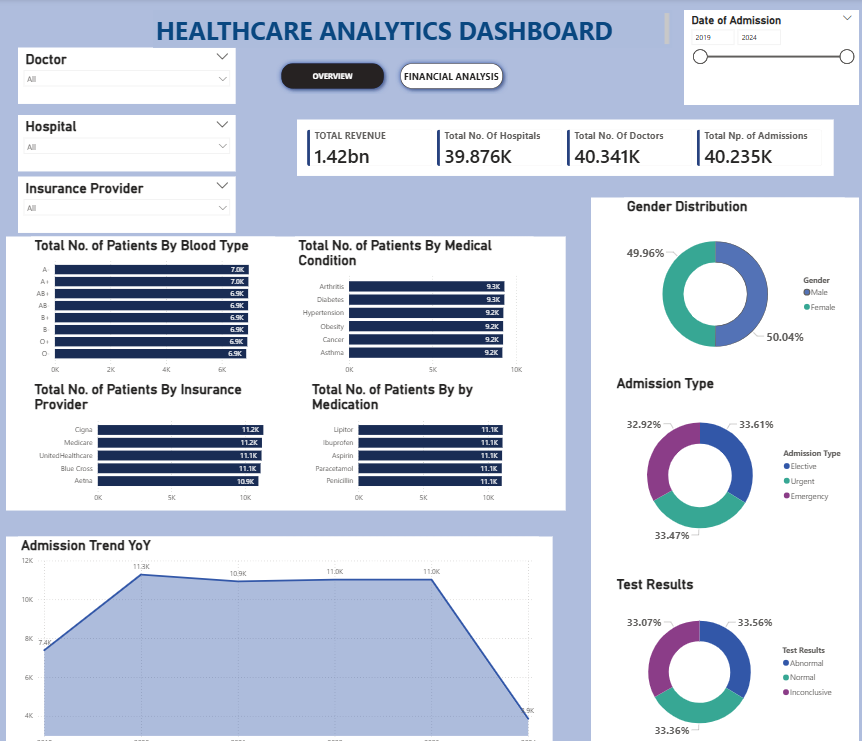

This screenshot's page, from the dashboard's own definition file:
{"tool":"powerbi","page":{"name":"OVERVIEW","canvas":[1500,1300],"ordinal":0},"visuals":[{"type":"shape","box":[15,412.5,965,472.5],"z":0},{"type":"shape","box":[1025,345,462.5,955],"z":1000},{"type":"shape","box":[15,927.5,942.5,372.5],"z":2000},{"type":"cardVisual","fields":{"Data":["Sum(healthcare_dataset.Billing Amount)","Count(healthcare_dataset.Hospital)","Count(healthcare_dataset.Doctor)","Count(healthcare_dataset.Name)"]},"box":[517.5,210,925,97.5],"z":3000},{"type":"barChart","title":"Total No. of Patients By Blood Type","fields":{"Category":["healthcare_dataset.Blood Type"],"Y":["CountNonNull(healthcare_dataset.Name)"]},"box":[60,412.5,420,247.5],"z":4000},{"type":"barChart","title":"Total No. of Patients By Medical Condition","fields":{"Y":["CountNonNull(healthcare_dataset.Name)"],"Category":["healthcare_dataset.Medical Condition"]},"box":[515,412.5,410,247.5],"z":5000},{"type":"barChart","title":"Total No. of Patients By Insurance Provider","fields":{"Y":["CountNonNull(healthcare_dataset.Name)"],"Category":["healthcare_dataset.Insurance Provider"]},"box":[60,660,455,220],"z":6000},{"type":"barChart","title":"Total No. of Patients By by Medication","fields":{"Y":["CountNonNull(healthcare_dataset.Name)"],"Category":["healthcare_dataset.Medication"]},"box":[537.5,660,397.5,220],"z":7000},{"type":"donutChart","title":"Gender Distribution","fields":{"Category":["healthcare_dataset.Gender"],"Y":["CountNonNull(healthcare_dataset.Gender)"]},"box":[1080,345,380,305],"z":8000},{"type":"pieChart","title":"Admission Type","fields":{"Category":["healthcare_dataset.Admission Type"],"Y":["CountNonNull(healthcare_dataset.Admission Type)"]},"box":[1062.5,650,412.5,320],"z":9000},{"type":"pieChart","title":"Test Results","fields":{"Category":["healthcare_dataset.Test Results"],"Y":["CountNonNull(healthcare_dataset.Test Results)"]},"box":[1062.5,995,390,305],"z":10000},{"type":"lineChart","title":"Admission Trend YoY","fields":{"Category":["healthcare_dataset.Date of Admission"],"Y":["CountNonNull(healthcare_dataset.Name)"]},"box":[37.5,927.5,897.5,372.5],"z":11000},{"type":"slicer","fields":{"Values":["healthcare_dataset.Doctor"]},"box":[37.5,85,375,97.5],"z":12000},{"type":"slicer","fields":{"Values":["healthcare_dataset.Hospital"]},"box":[37.5,202.5,375,97.5],"z":13000},{"type":"slicer","fields":{"Values":["healthcare_dataset.Insurance Provider"]},"box":[37.5,307.5,375,97.5],"z":14000},{"type":"slicer","fields":{"Values":["healthcare_dataset.Date of Admission"]},"box":[1185,20,302.5,162.5],"z":15000},{"type":"textbox","box":[270,20,895,65],"z":16000},{"type":"pageNavigator","box":[480,102.5,400,62.5],"z":17000}]}

Visuals, with their boxes in screenshot pixels (x1, y1, x2, y2), scaled from the page's 1500x1300 canvas onto the 862x741 screenshot:
shape: (left=9, top=235, right=563, bottom=504)
shape: (left=589, top=197, right=855, bottom=740)
shape: (left=9, top=529, right=550, bottom=740)
cardVisual - Sum(healthcare_dataset.Billing Amount) x Count(healthcare_dataset.Hospital): (left=297, top=120, right=829, bottom=175)
"Total No. of Patients By Blood Type" barChart: (left=34, top=235, right=276, bottom=376)
"Total No. of Patients By Medical Condition" barChart: (left=296, top=235, right=532, bottom=376)
"Total No. of Patients By Insurance Provider" barChart: (left=34, top=376, right=296, bottom=502)
"Total No. of Patients By by Medication" barChart: (left=309, top=376, right=537, bottom=502)
"Gender Distribution" donutChart: (left=621, top=197, right=839, bottom=370)
"Admission Type" pieChart: (left=611, top=370, right=848, bottom=553)
"Test Results" pieChart: (left=611, top=567, right=835, bottom=740)
"Admission Trend YoY" lineChart: (left=22, top=529, right=537, bottom=740)
slicer - healthcare_dataset.Doctor: (left=22, top=48, right=237, bottom=104)
slicer - healthcare_dataset.Hospital: (left=22, top=115, right=237, bottom=171)
slicer - healthcare_dataset.Insurance Provider: (left=22, top=175, right=237, bottom=231)
slicer - healthcare_dataset.Date of Admission: (left=681, top=11, right=855, bottom=104)
textbox: (left=155, top=11, right=669, bottom=48)
pageNavigator: (left=276, top=58, right=506, bottom=94)
